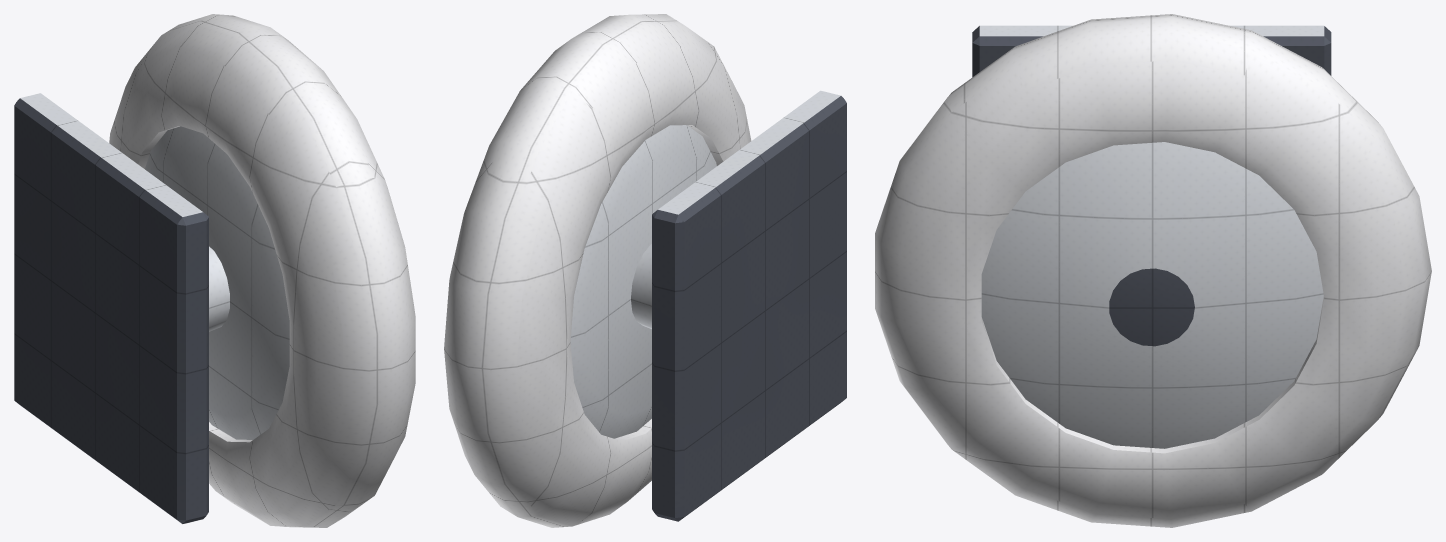
The model's file is R4M_WheelM_Side_Offroad_LOD1.glb.
3 renders of one model, left to right at view 1: azimuth 30°, elevation 25°; view 2: azimuth 150°, elevation 25°; view 3: azimuth 270°, elevation 25°, orthographic. The views are drawn at different scales.
Visible parts, largest first — view 1: R4M_WheelM_Side_Offroad_LOD1; view 2: R4M_WheelM_Side_Offroad_LOD1; view 3: R4M_WheelM_Side_Offroad_LOD1.
Part boxes in pixels (x1=…): R4M_WheelM_Side_Offroad_LOD1: x1=14, y1=14, x2=415, y2=527; R4M_WheelM_Side_Offroad_LOD1: x1=444, y1=14, x2=846, y2=527; R4M_WheelM_Side_Offroad_LOD1: x1=875, y1=14, x2=1431, y2=527.
Size of the model in its own units: 0.402 by 0.7778 by 0.7756.
Materials: 4 (3 with a texture image).
